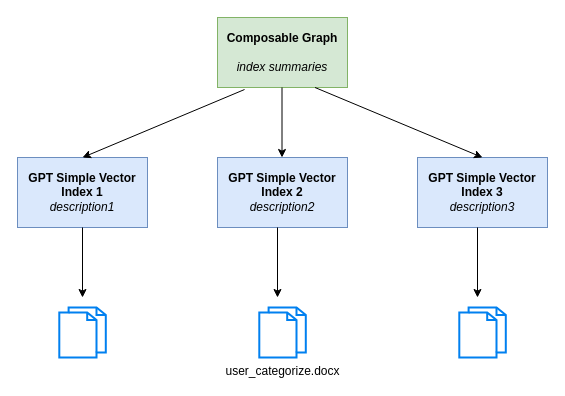
Some shapes in this 565 by 396 pixel diagram are drawn without their labels. The centre of each missing label's shape, as x and y in pixels:
gallery_model.docx: (x=82, y=332)
policy.docx: (x=482, y=332)
